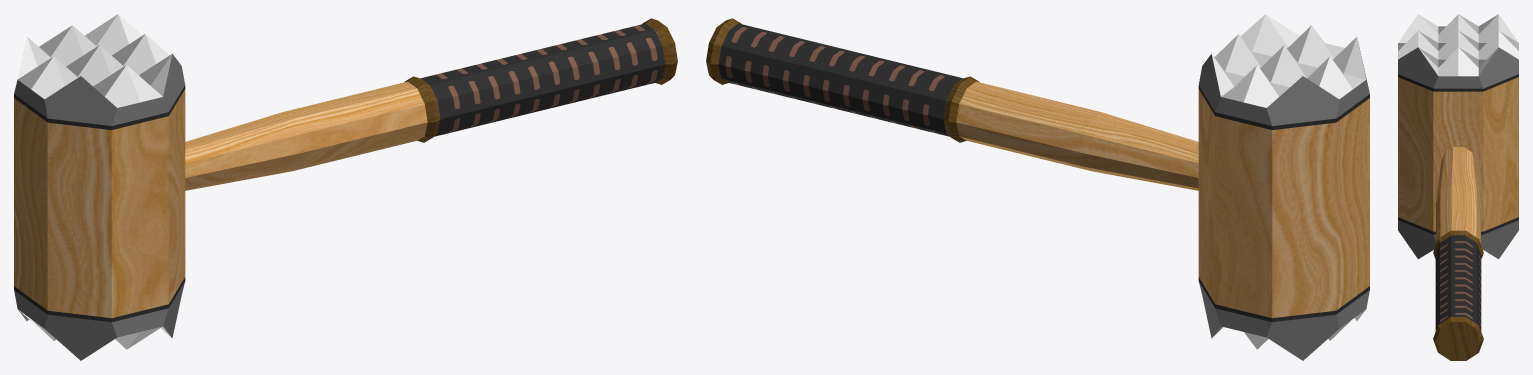
File: MeatTenderiser.fbx
3 views of the same model, side by side, from view 1: azimuth 30°, elevation 25°; view 2: azimuth 150°, elevation 25°; view 3: azimuth 270°, elevation 25° (orthographic). The views are drawn at different scales.
Parts seen in each view (by area): view 1: ZomboidMeatTenderiser; view 2: ZomboidMeatTenderiser; view 3: ZomboidMeatTenderiser.
Part boxes in pixels (x1,y1,x2,y2): ZomboidMeatTenderiser: [14, 14, 677, 360]; ZomboidMeatTenderiser: [706, 14, 1369, 360]; ZomboidMeatTenderiser: [1398, 14, 1518, 360].
Bounding box in the file's own units: 0.3307 × 0.1426 × 0.0736.
